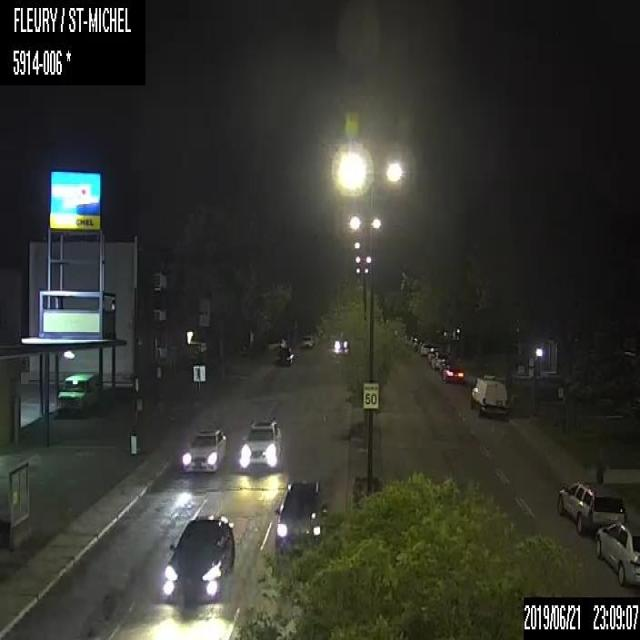vehicle: (159, 512, 236, 604), (552, 472, 628, 537), (271, 478, 326, 554), (595, 516, 639, 587), (237, 414, 284, 469), (55, 368, 102, 416), (180, 427, 227, 472), (468, 372, 510, 415), (440, 364, 465, 383), (274, 343, 293, 365), (430, 351, 450, 370), (332, 338, 348, 359), (297, 335, 313, 348), (419, 341, 432, 356)
